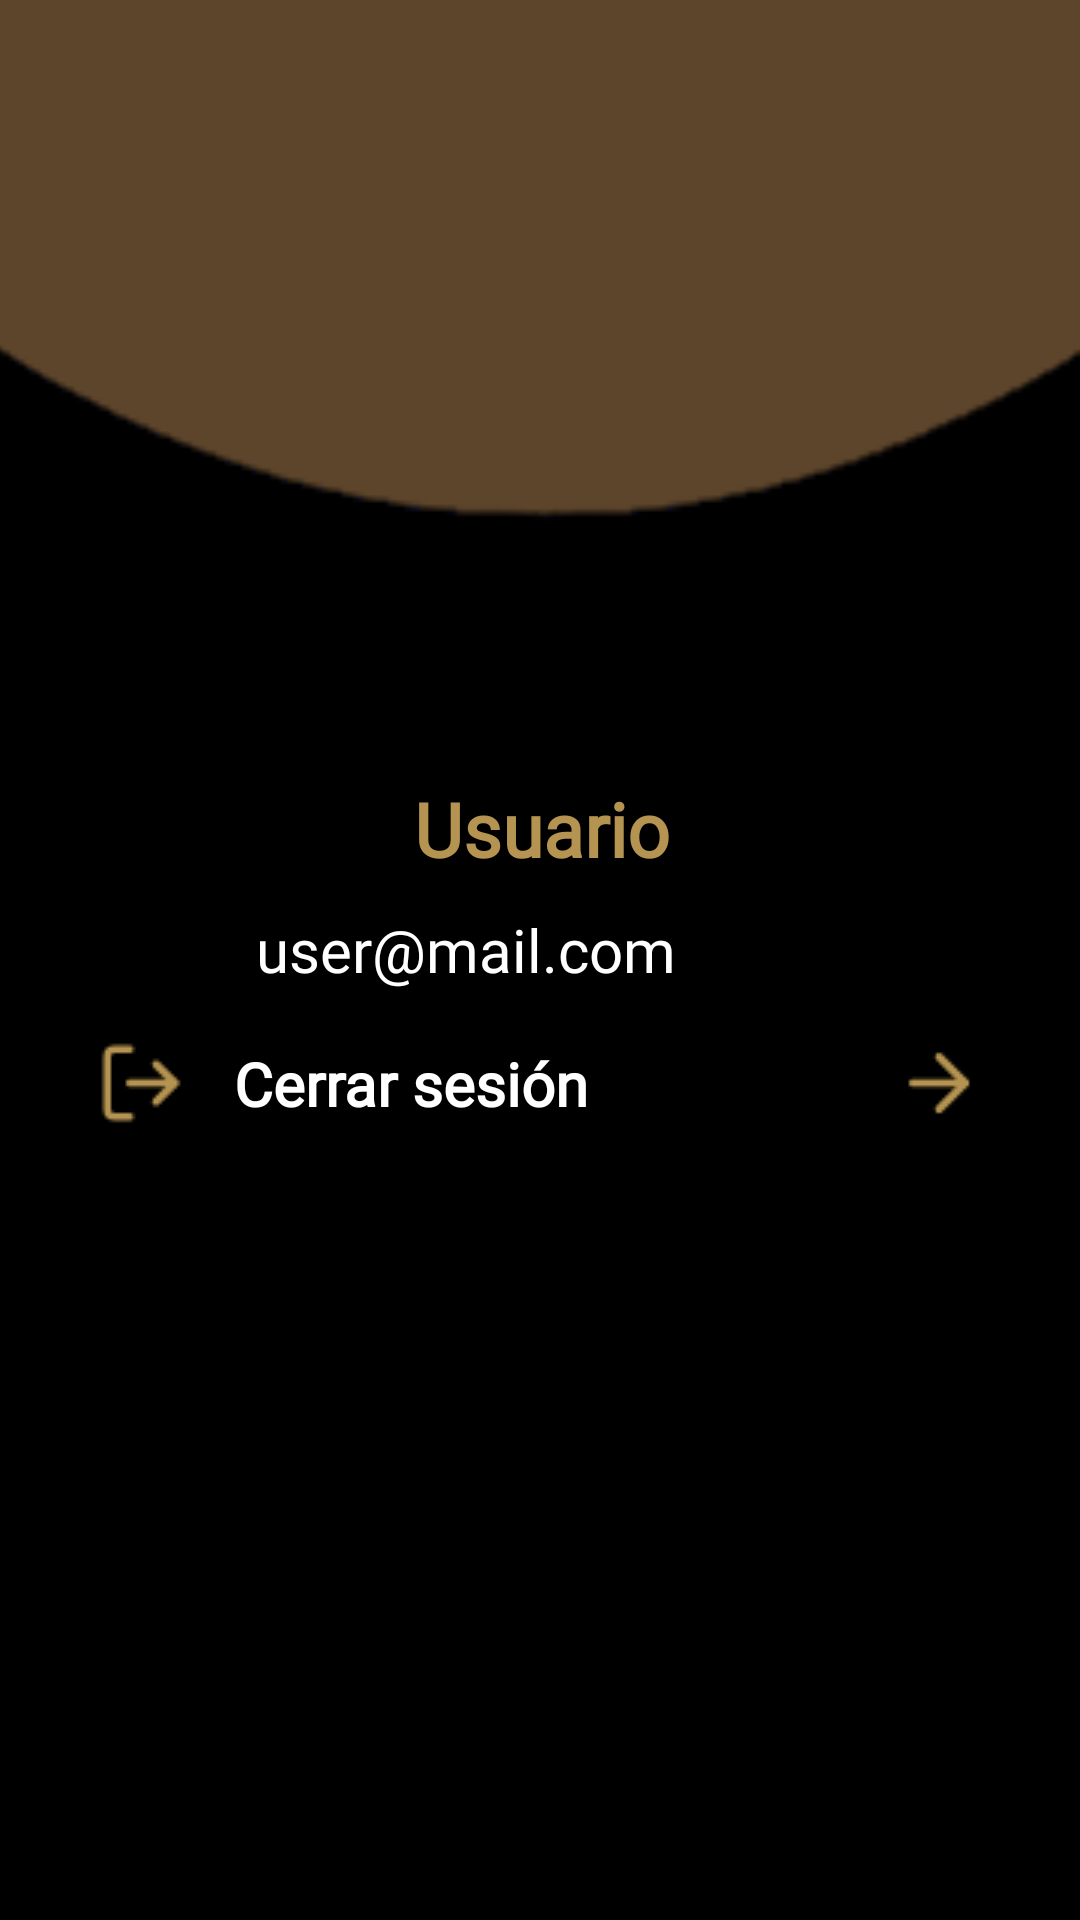

Icon click points for this 1080 x 1920 phone screenshot, format (x=x, y=y):
arrowright: (x=939, y=1083)
